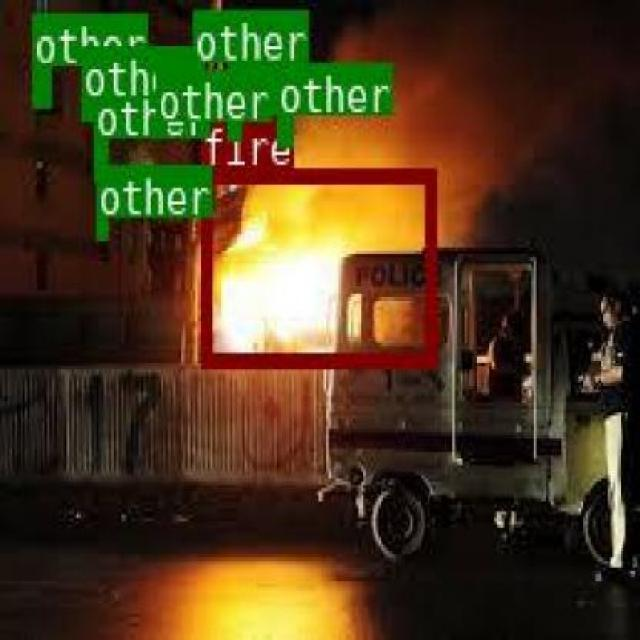Fire: (198, 165, 432, 364)
